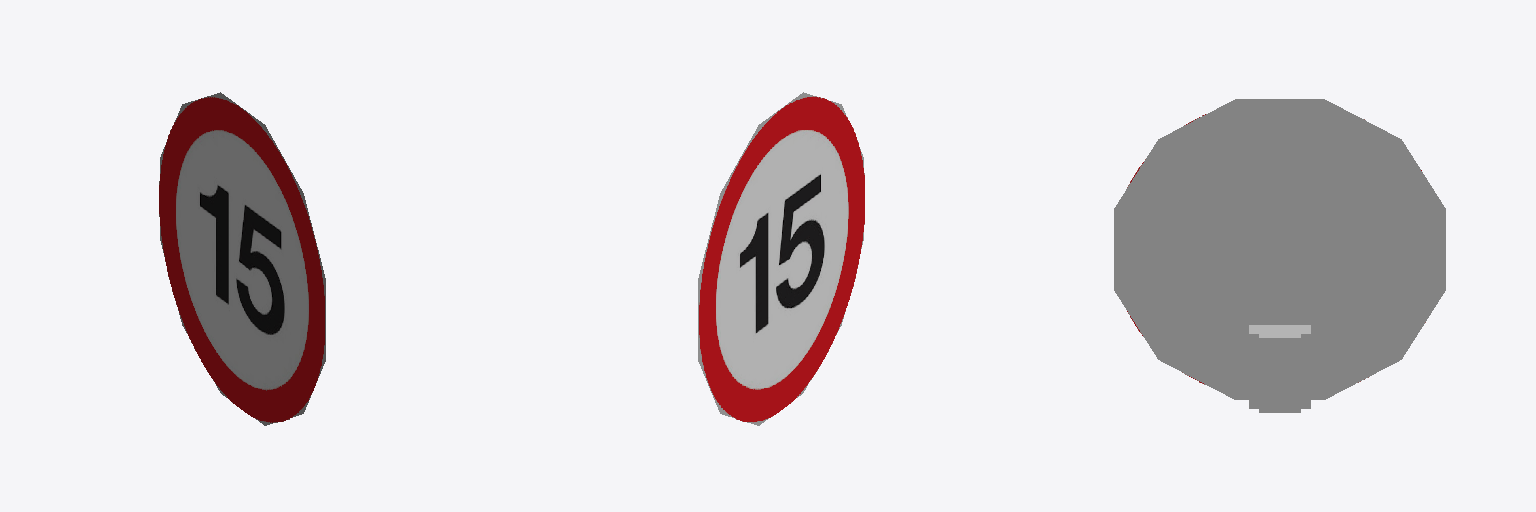
The picture shows the model from 3 angles: view 1: azimuth 30°, elevation 25°; view 2: azimuth 150°, elevation 25°; view 3: azimuth 270°, elevation 25°; orthographic projection.
Visible parts, largest first — view 1: cube, circle; view 2: cube, circle; view 3: circle, cube.
Boxes of the visible parts, x1,y1,x2,y2 form: cube: [159, 97, 324, 422]; circle: [160, 92, 325, 425]; cube: [699, 96, 864, 422]; circle: [698, 92, 863, 425]; circle: [1114, 99, 1445, 399]; cube: [1127, 114, 1425, 412].
Size of the model in its own units: 0.0484 by 0.5 by 0.5.
Materials: 2 (1 with a texture image).